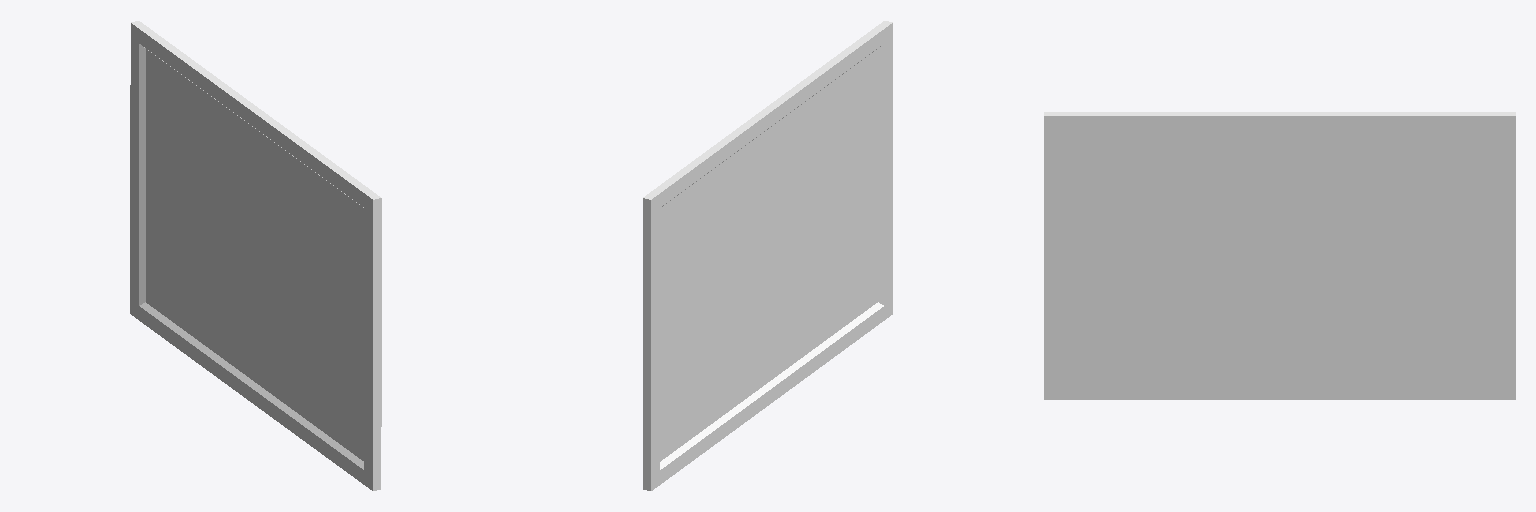
The robot description file, URDF, robot "board.SLDPRT":
<?xml version="1.0" encoding="utf-8"?>
<robot
  name="board.SLDPRT">
  <link
    name="board.SLDPRT">
    <contact>
      <lateral_friction value="0.5"/>
      <rolling_friction value="1.0"/>
      <contact_cfm value="0.0"/>
      <contact_erp value="1.0"/>
    </contact>
    <inertial>
      <origin rpy="0 0 0" xyz="0 0 0"/>
      <mass value="1"/>
      <inertia ixx="0" ixy="0" ixz="0" iyy="0" iyz="0" izz="0"/>
    </inertial>
    <visual>
      <origin rpy="1.57 0 -1.57" xyz="0 0 0"/>
      <geometry>
        <mesh filename="models/meshes/board/board.obj" scale="1.5 1.5 1.5"/>
      </geometry>
      <material name="tray_material">
        <color rgba="1 1 1 1"/>
      </material>
    </visual>
    <collision>
      <origin rpy="1.57 0 -1.57" xyz="0 0 0"/>
      <geometry>
        <mesh filename="models/meshes/board/board.obj" scale="1.5 1.5 1.5"/>
      </geometry>
    </collision>
  </link>
</robot>

--- Render facts (derived) ---
3 views of the same robot in one strip: view 1: azimuth 30°, elevation 25°; view 2: azimuth 150°, elevation 25°; view 3: azimuth 270°, elevation 25° (orthographic).
Model board.SLDPRT with 1 links and 0 joints (none), rooted at board.SLDPRT, posed all joints at 0.
Visible links, largest first — view 1: board.SLDPRT; view 2: board.SLDPRT; view 3: board.SLDPRT.
Link boxes in pixels (bbox=[...]): board.SLDPRT: bbox=[130, 21, 381, 490]; board.SLDPRT: bbox=[643, 21, 892, 490]; board.SLDPRT: bbox=[1044, 112, 1515, 399].
Size in the robot's own frame: 0.032 by 1.5 by 0.9955 metres.
1 mesh visuals loaded from 1 distinct referenced files (1 OBJ).